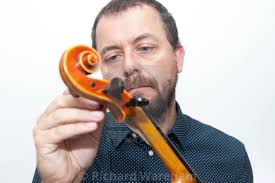white_male: (91, 21, 172, 115)
